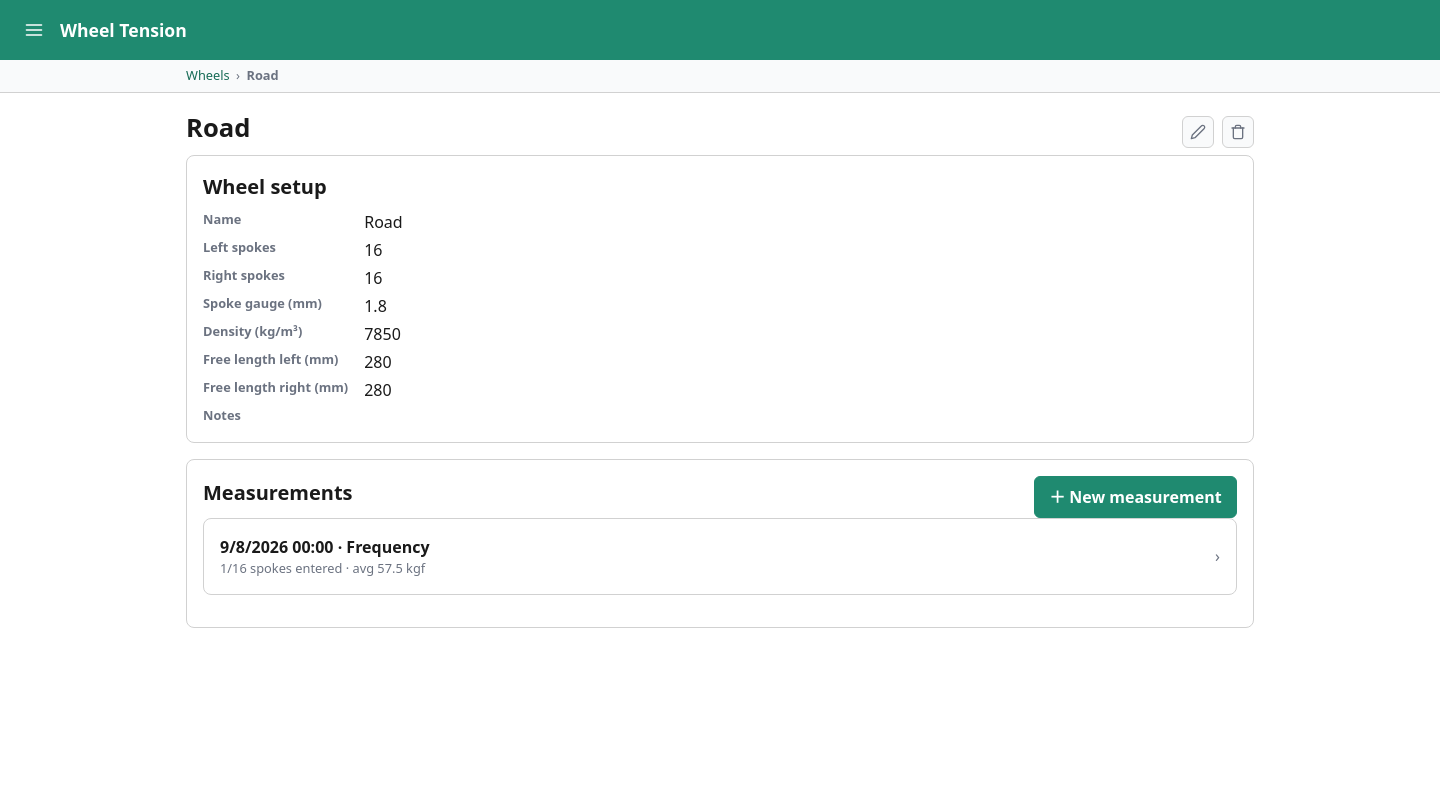
Scenario: WheelDetailPage › cancels the edit without saving
This screenshot has width=1440, height=810.
Click the button named "Edit wheel" at x=1198, y=132, box [1182,116,1214,148]
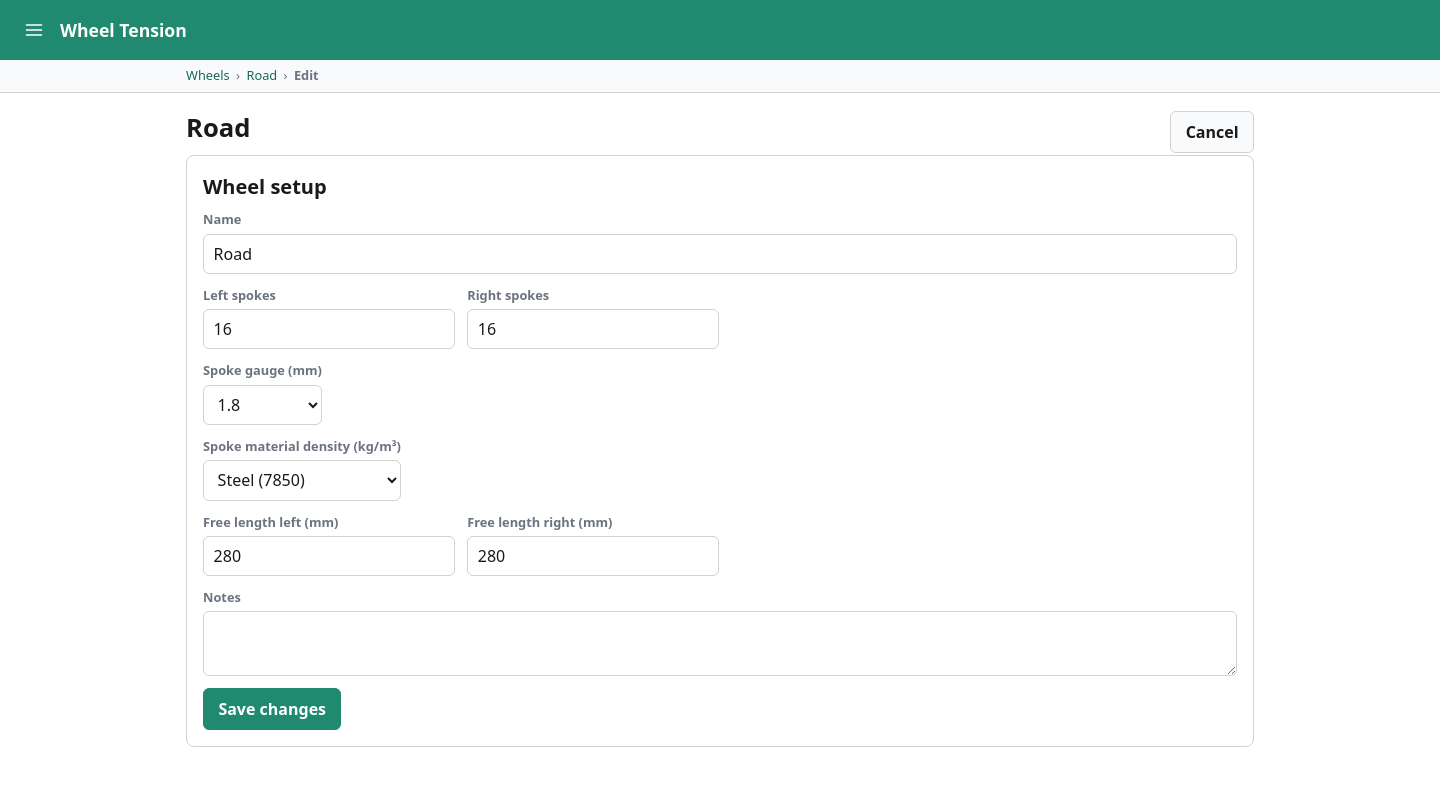
Replace the text in the field labelled "Name" with "Gravel" at x=720, y=254, box [203,234,1237,274]
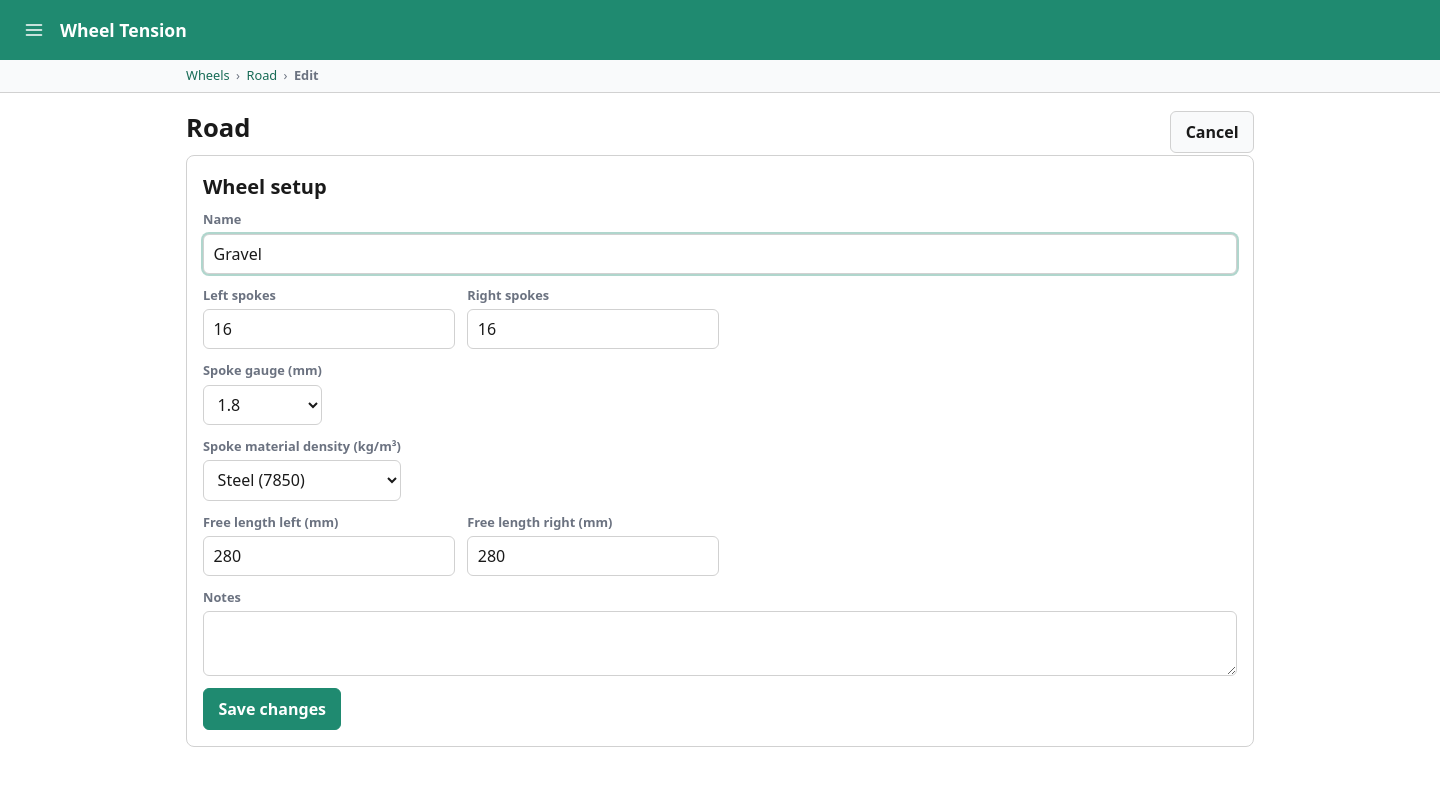
Click the button "Cancel" at x=1212, y=132, box [1170,111,1254,153]
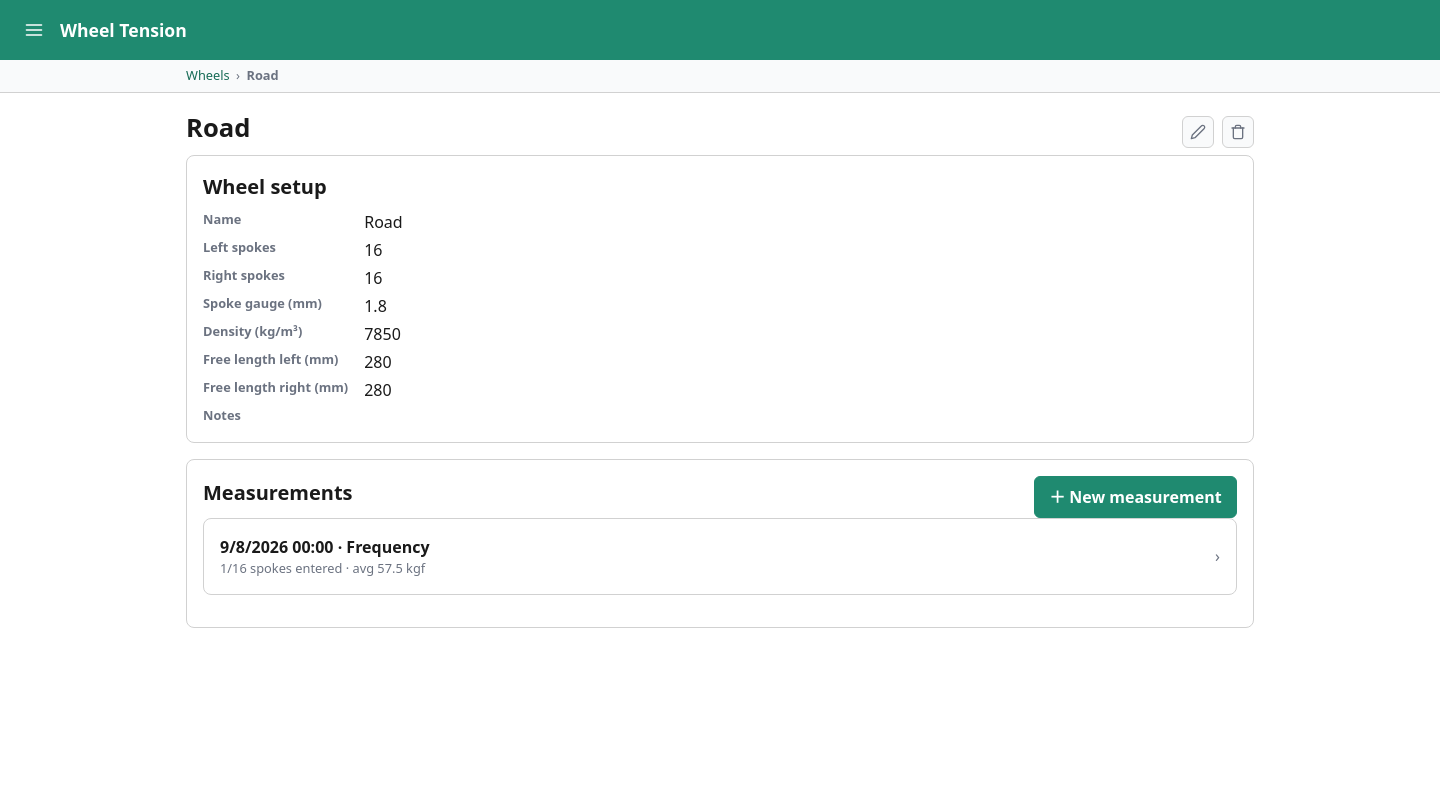
Now the text "Road" next to "Wheels" is shown, box [246,66,279,84]
